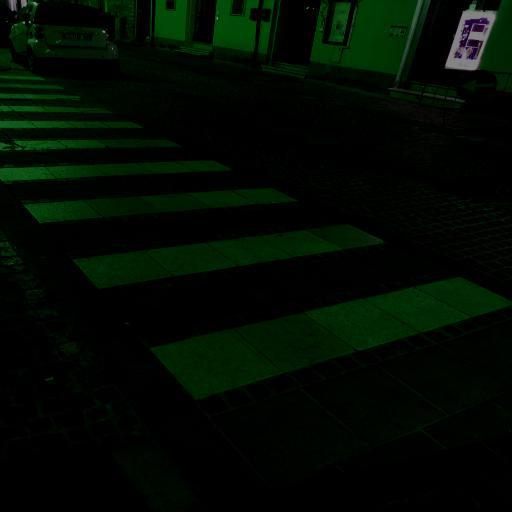crosswalk: (12, 180, 392, 308), (1, 117, 188, 159)
